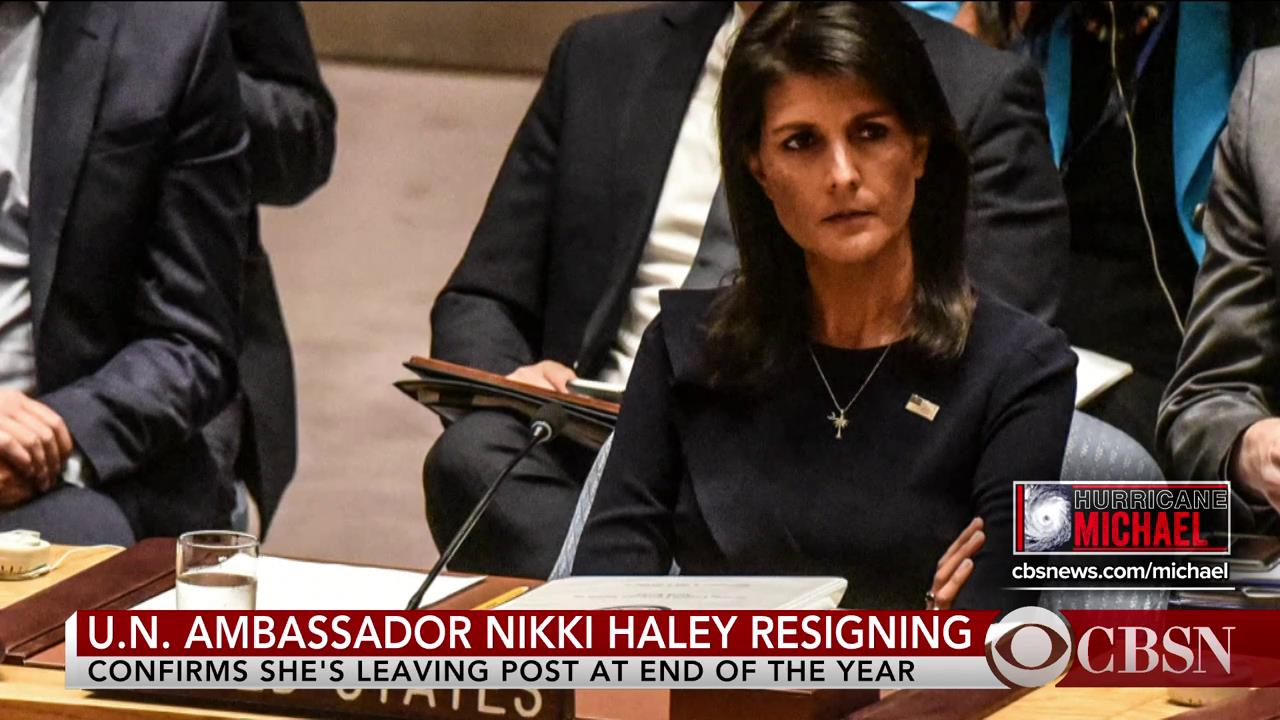CBSN: (1077, 621, 1240, 678)
CONFIRMS SHE'S LEAVING POST AT END OF THE YEAR: (86, 657, 918, 685)
HURRICANE: (1072, 485, 1228, 511)
MICHAEL: (1071, 508, 1211, 549)
U.N. AMBASSADOR NIKKI HALEY RESIGNING: (87, 613, 972, 653)
cbsnews.com/michael: (1008, 561, 1231, 582)
